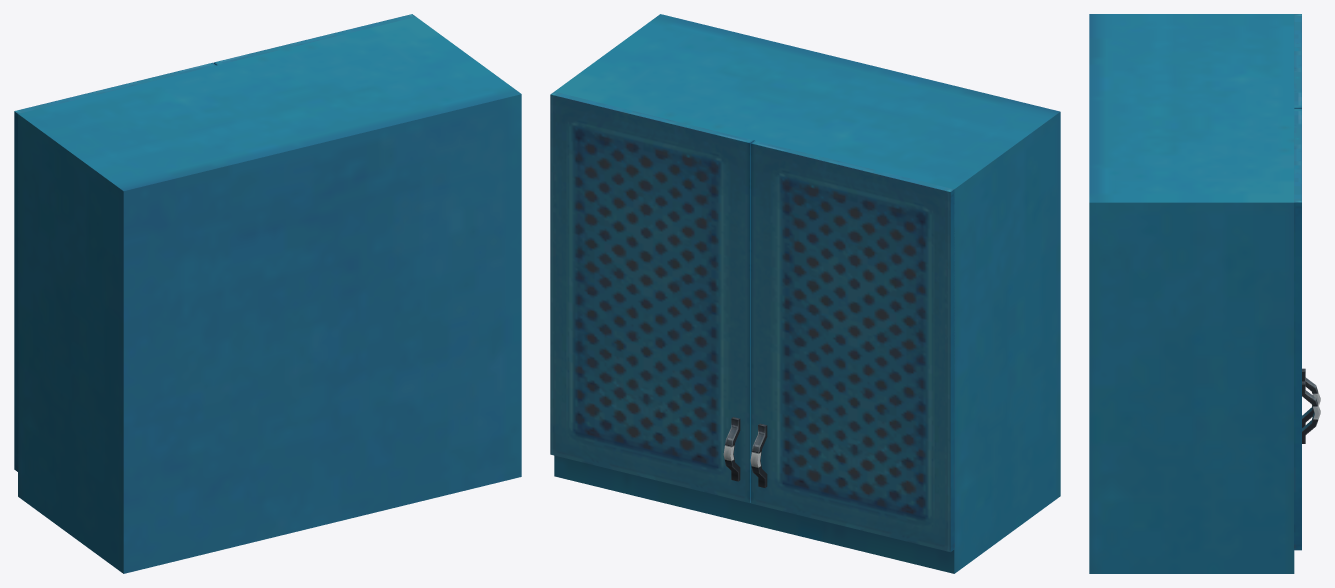
The model's file is furni_0200059_03.FBX.
3 renders of one model, left to right at view 1: azimuth 30°, elevation 25°; view 2: azimuth 150°, elevation 25°; view 3: azimuth 270°, elevation 25°, orthographic. The views are drawn at different scales.
Visible parts, largest first — view 1: furni_0200059; view 2: furni_0200059; view 3: furni_0200059.
Boxes of the visible parts, <box> form: furni_0200059: <box>14,14,521,573</box>; furni_0200059: <box>550,14,1060,573</box>; furni_0200059: <box>1089,14,1320,573</box>.
Bounding box in the file's own units: 80.78 × 74.19 × 41.84.
Materials: 1 (1 with a texture image).
